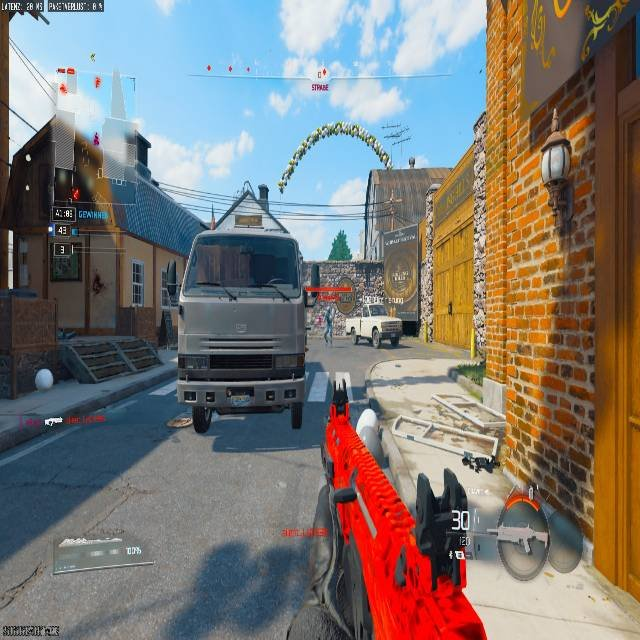player: (311, 300, 335, 349)
